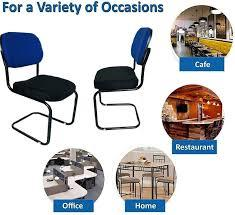chair: (0, 25, 86, 162), (89, 25, 153, 135)
